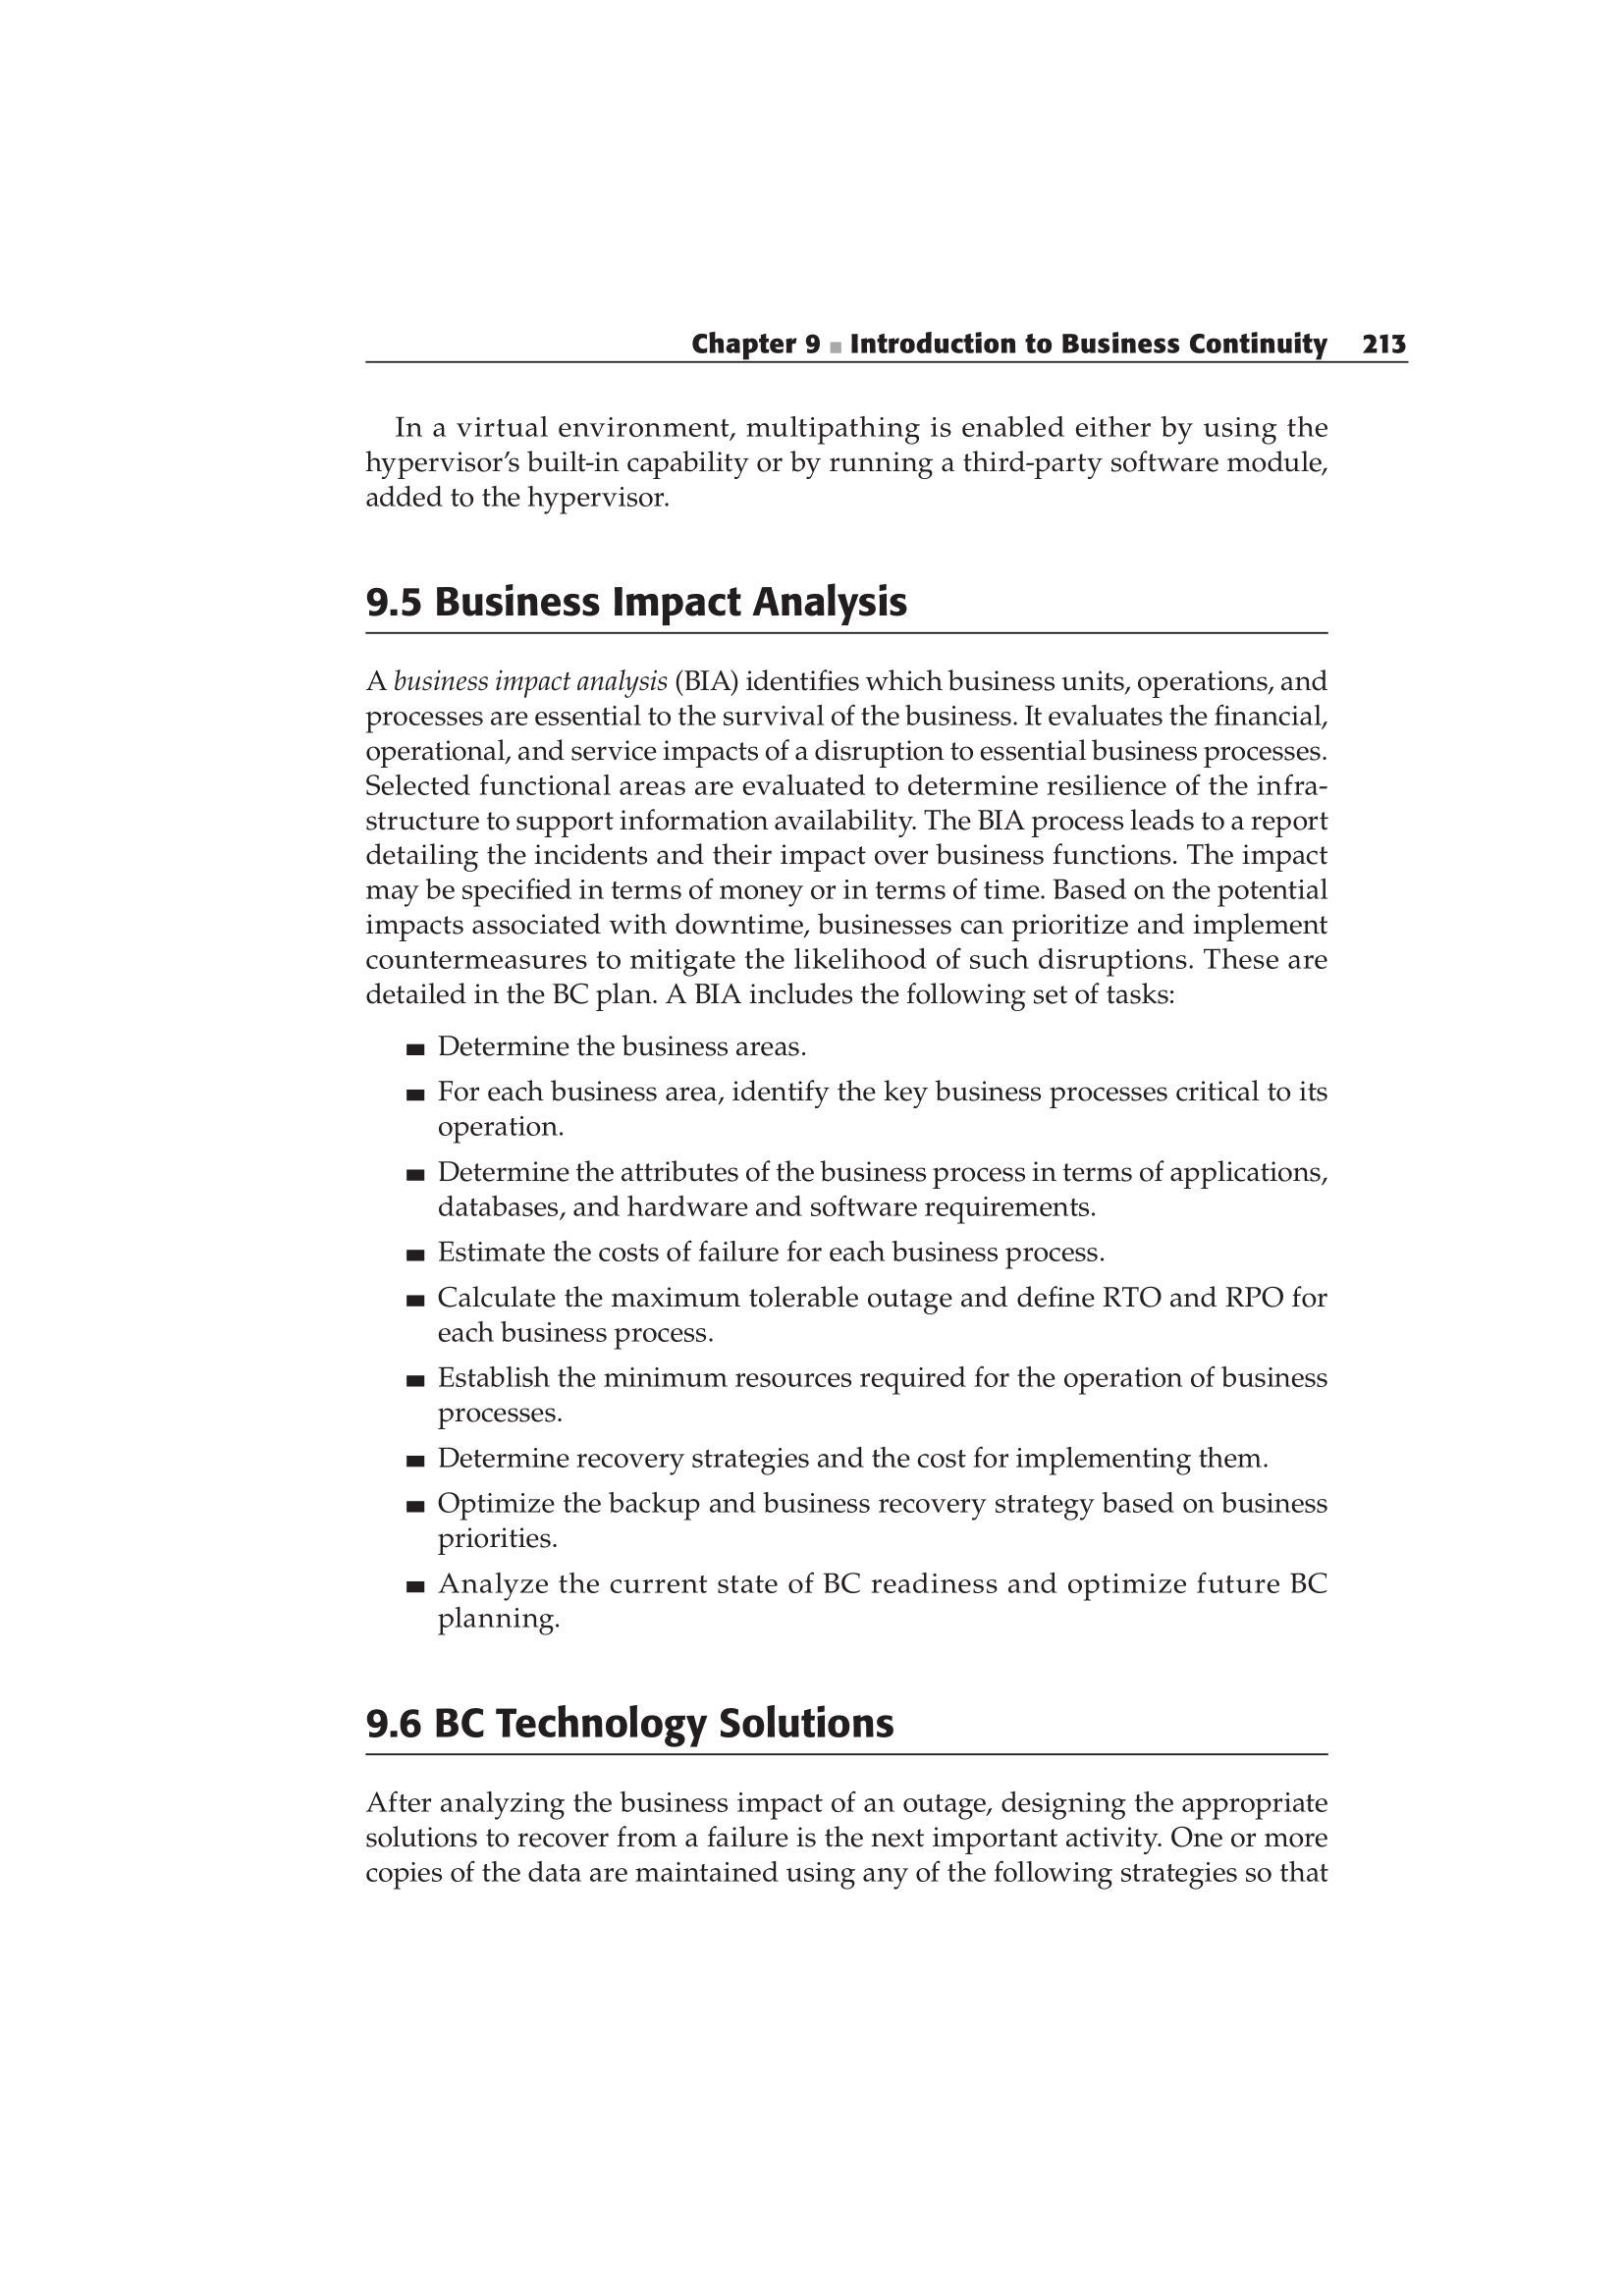Paragraph: (348, 648, 1342, 1018), (348, 402, 1342, 534), (357, 1780, 1351, 1903), (420, 1483, 1328, 1557), (425, 1283, 1356, 1352), (439, 1366, 1324, 1438), (439, 1078, 1347, 1146), (429, 1164, 1328, 1223), (429, 1571, 1342, 1629), (365, 1675, 899, 1757), (689, 305, 1425, 365), (434, 1438, 1273, 1480), (351, 570, 908, 625), (429, 1232, 1096, 1274), (425, 1027, 822, 1064)
